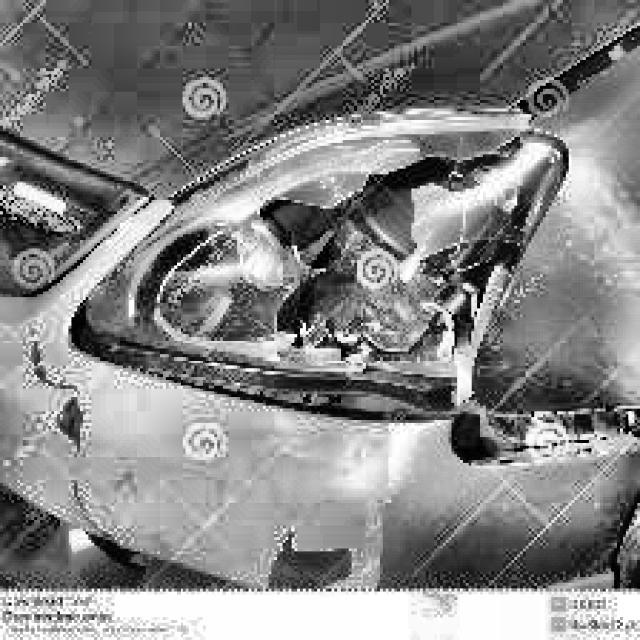head_lamp: (273, 155, 462, 350)
